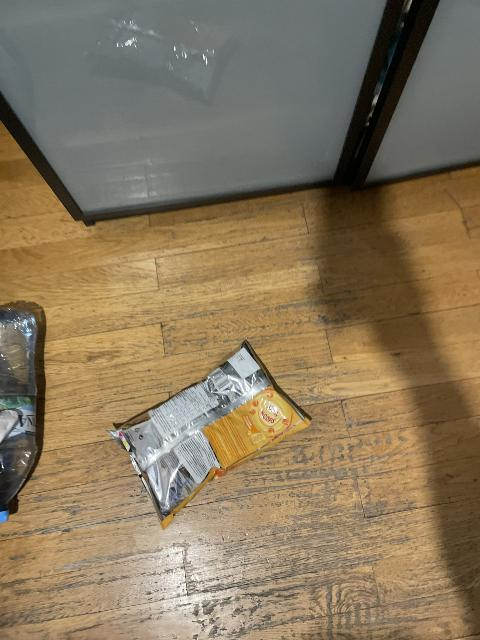Chio Hula Hoops Cheese 70g: (112, 339, 314, 530)
